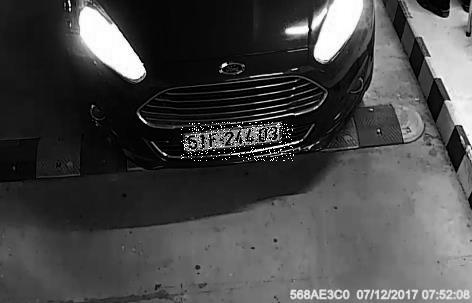License-plate: (183, 123, 296, 162)
